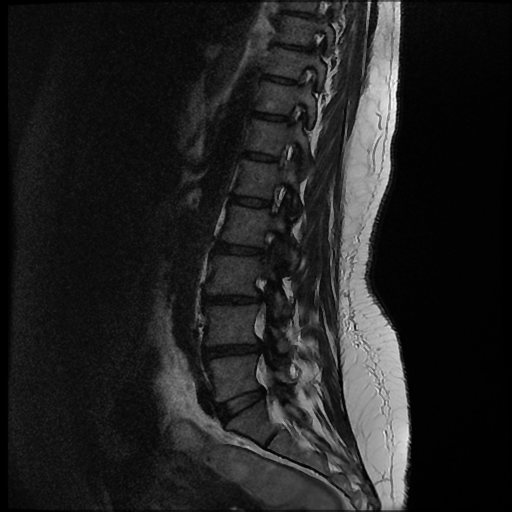LFS0: (249, 176, 295, 224)
